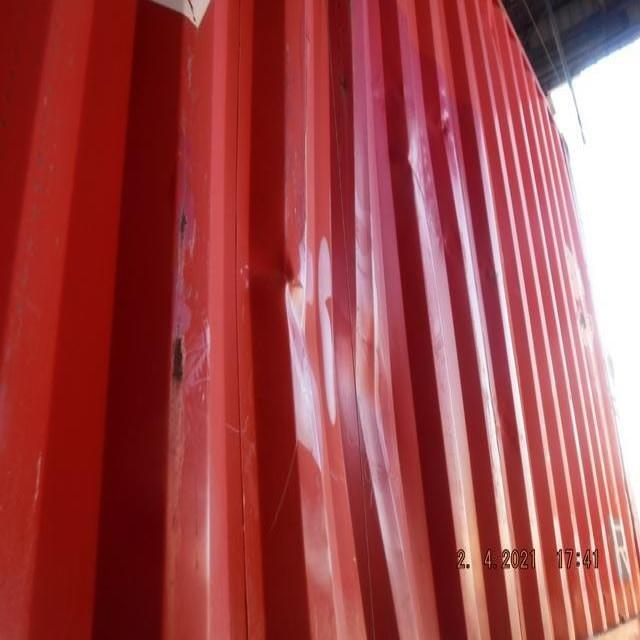dent: (221, 192, 423, 536)
